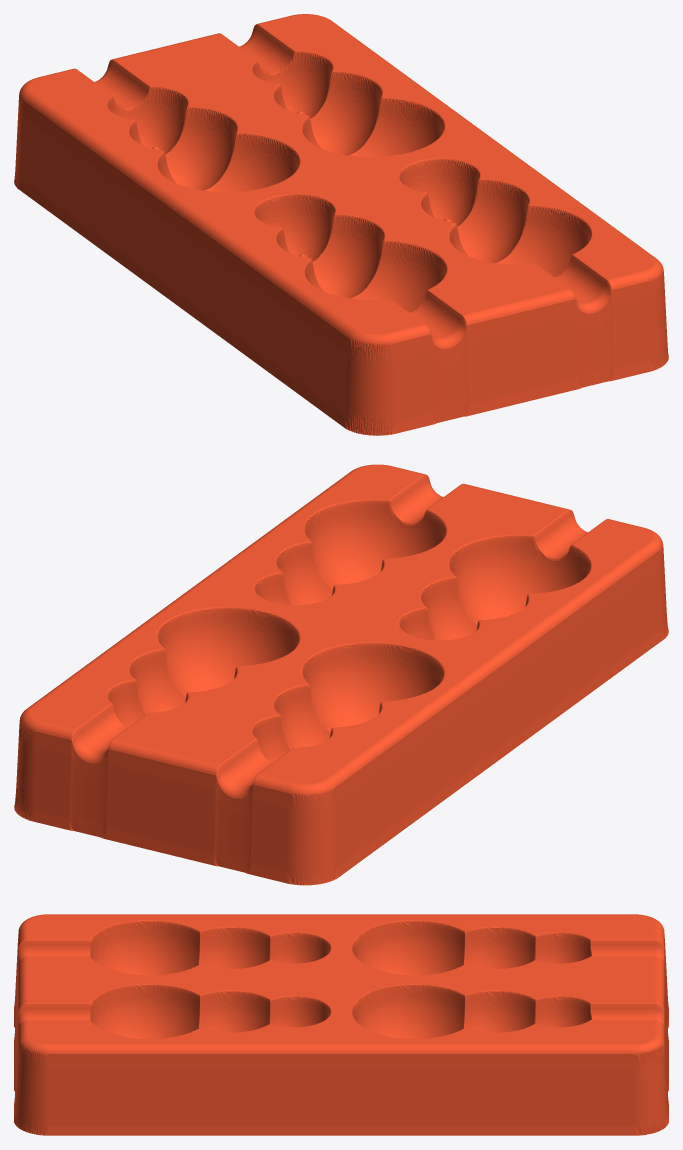
Rendered from mold.glb.
3 views of the same model, one above another, from view 1: azimuth 30°, elevation 25°; view 2: azimuth 150°, elevation 25°; view 3: azimuth 270°, elevation 25° (orthographic). The views are drawn at different scales.
Visible parts, largest first — view 1: geometry_0; view 2: geometry_0; view 3: geometry_0.
Boxes of the visible parts, left/top/right/bottom form: geometry_0: left=14, top=14, right=668, bottom=435; geometry_0: left=14, top=464, right=668, bottom=885; geometry_0: left=14, top=914, right=668, bottom=1135.
Size of the model in its own units: 0.0861 by 0.0245 by 0.1695.
